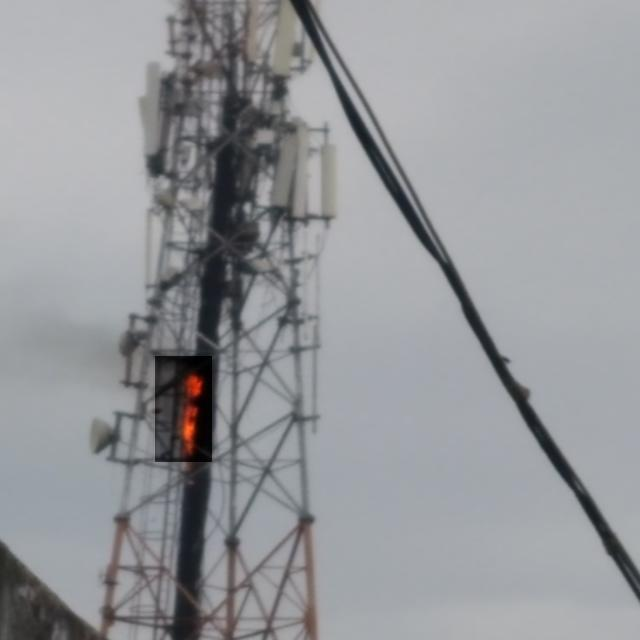Fire: (155, 356, 212, 462)
